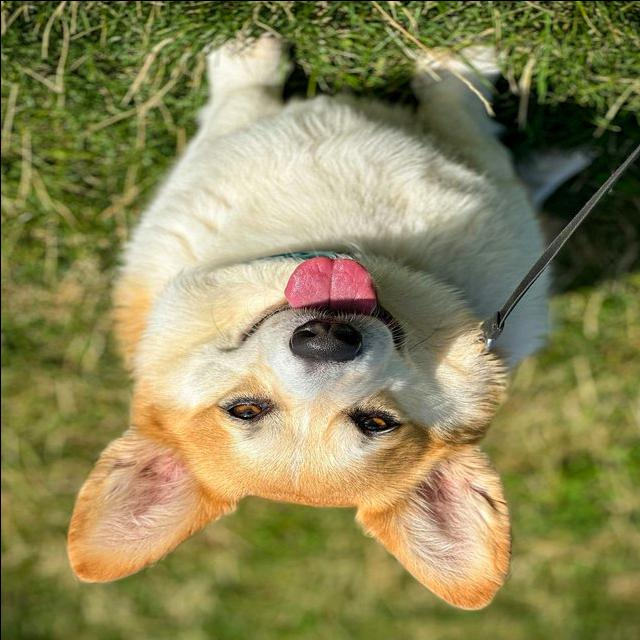corgi: (65, 28, 590, 612)
